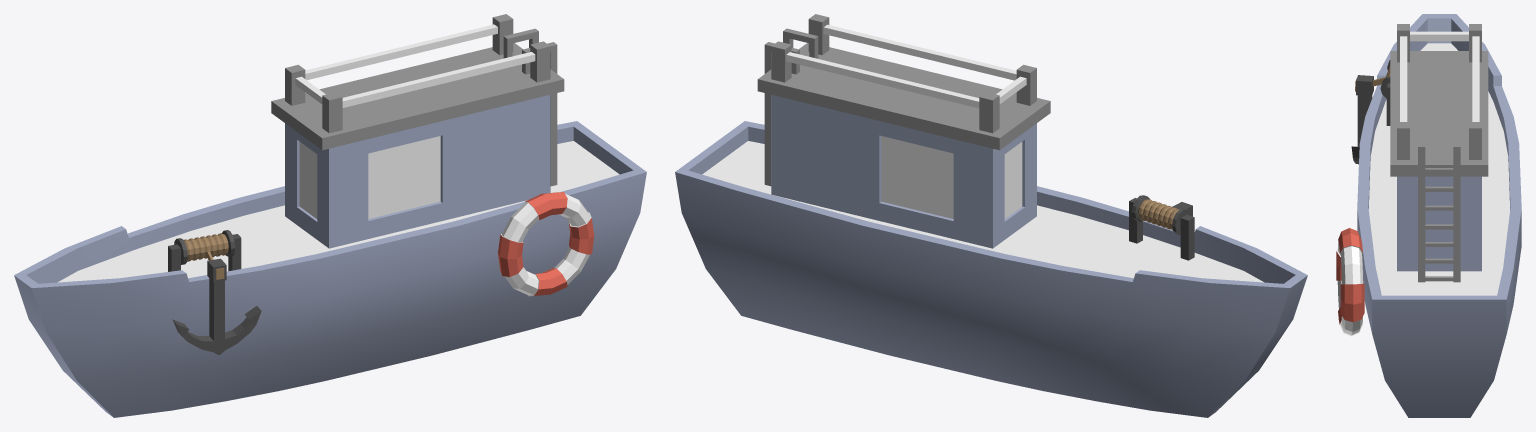
Rendered from ship_color.fbx.
3 views of the same model, side by side, from view 1: azimuth 30°, elevation 25°; view 2: azimuth 150°, elevation 25°; view 3: azimuth 270°, elevation 25° (orthographic). The views are drawn at different scales.
Parts seen in each view (by area): view 1: s01, s02, s09, s05, s06, s08, s03, s04, s07; view 2: s01, s02, s09, s06, s08, s04, s07; view 3: s01, s09, s02, s07, s05, s06, s08, s03, s04.
Part boxes in pixels (left/top/right/bottom): s01: left=14, top=121, right=646, bottom=417; s02: left=285, top=94, right=550, bottom=248; s09: left=271, top=43, right=564, bottom=150; s05: left=498, top=192, right=594, bottom=296; s06: left=295, top=24, right=535, bottom=107; s08: left=285, top=14, right=550, bottom=133; s03: left=172, top=258, right=261, bottom=355; s04: left=168, top=230, right=241, bottom=279; s07: left=503, top=28, right=557, bottom=186; s01: left=675, top=121, right=1307, bottom=417; s02: left=771, top=94, right=1036, bottom=248; s09: left=757, top=43, right=1050, bottom=150; s06: left=786, top=24, right=1026, bottom=108; s08: left=771, top=14, right=1036, bottom=133; s04: left=1129, top=195, right=1194, bottom=260; s07: left=764, top=28, right=818, bottom=186; s01: left=1357, top=14, right=1521, bottom=417; s09: left=1390, top=51, right=1488, bottom=176; s02: left=1397, top=176, right=1481, bottom=271; s07: left=1418, top=132, right=1460, bottom=282; s05: left=1336, top=228, right=1364, bottom=336; s06: left=1400, top=31, right=1479, bottom=121; s08: left=1397, top=24, right=1481, bottom=159; s03: left=1351, top=75, right=1373, bottom=164; s04: left=1355, top=60, right=1390, bottom=125.
Size of the model in its own units: 798 by 366 by 226.
